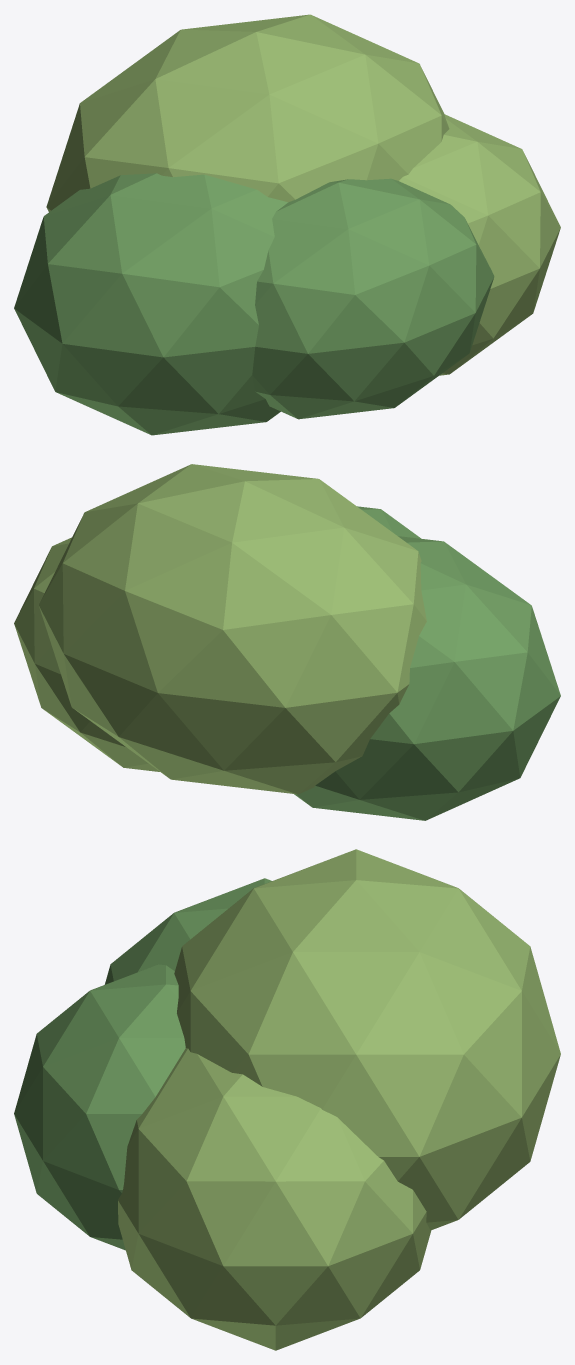
File: prop-bush.glb
3 renders of one model, top to bottom at view 1: azimuth 30°, elevation 25°; view 2: azimuth 150°, elevation 25°; view 3: azimuth 270°, elevation 25°, orthographic. The views are drawn at different scales.
Parts seen in each view (by area): view 1: Leaf green, Leaf light; view 2: Leaf light, Leaf green; view 3: Leaf light, Leaf green.
Boxes of the visible parts, left/top/right/bottom form: Leaf green: left=14, top=173, right=494, bottom=435; Leaf light: left=46, top=14, right=560, bottom=375; Leaf light: left=14, top=464, right=426, bottom=794; Leaf green: left=294, top=506, right=560, bottom=820; Leaf light: left=118, top=849, right=560, bottom=1350; Leaf green: left=14, top=878, right=271, bottom=1250.
Bounding box in the file's own units: 1.84 × 1.18 × 1.5.
